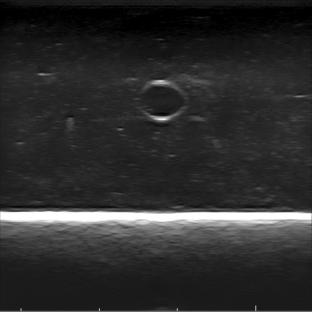vessel: (137, 78, 188, 122)
